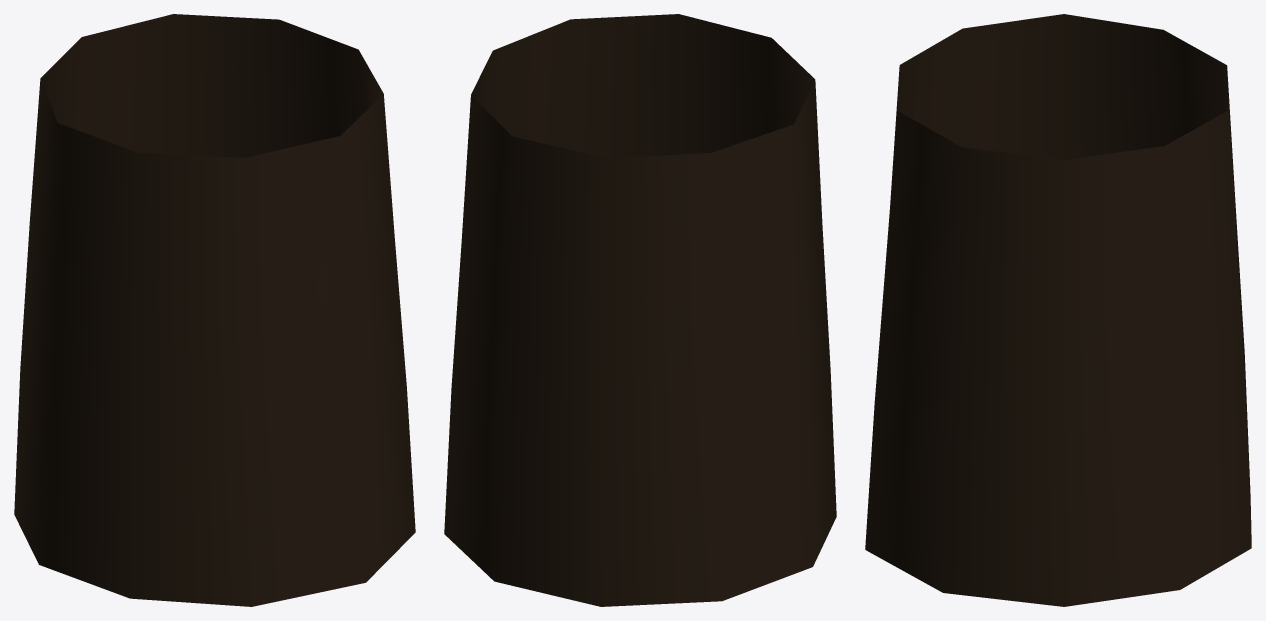
The model's file is pirate_outfit_bracer.R.glb.
3 renders of one model, left to right at view 1: azimuth 30°, elevation 25°; view 2: azimuth 150°, elevation 25°; view 3: azimuth 270°, elevation 25°, orthographic.
Visible parts, largest first — view 1: pirate_outfit_bracer.R; view 2: pirate_outfit_bracer.R; view 3: pirate_outfit_bracer.R.
Part boxes in pixels (bbox=[...]): pirate_outfit_bracer.R: bbox=[14, 14, 415, 606]; pirate_outfit_bracer.R: bbox=[444, 14, 836, 606]; pirate_outfit_bracer.R: bbox=[865, 14, 1251, 606].
Size of the model in its own units: 0.1288 by 0.1562 by 0.1259.
